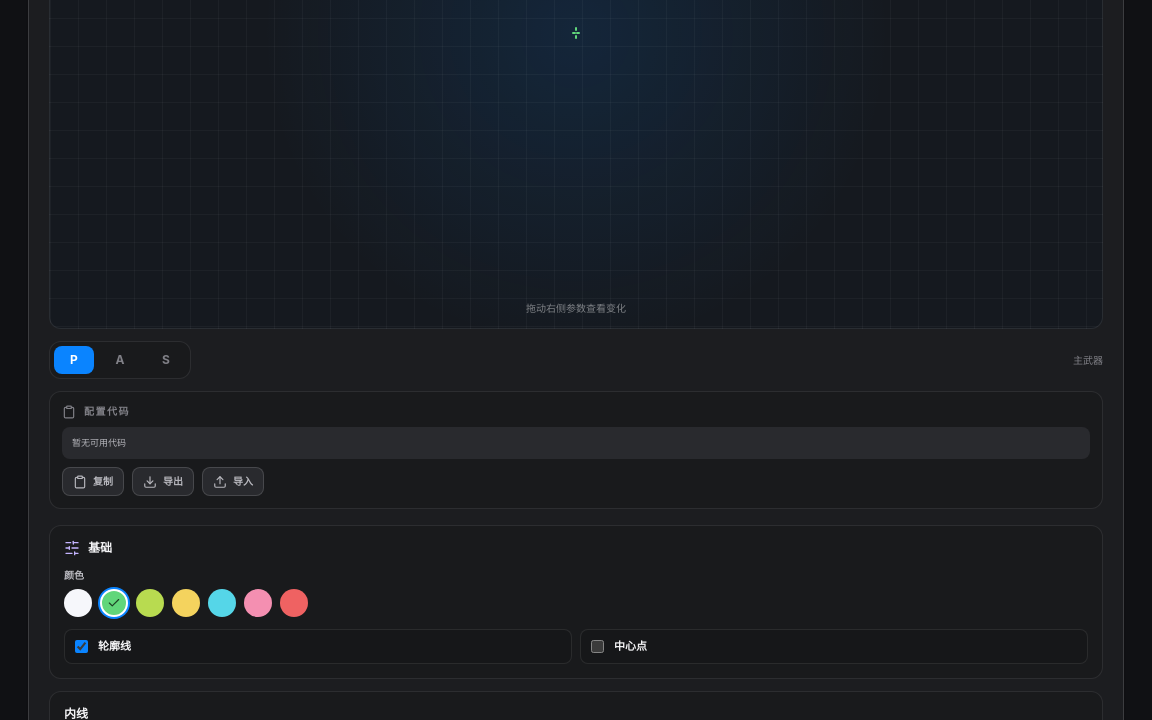
it: ValorantLabPage › keeps P/A/S profiles separate and supports copying the generated code
The width and height of the screenshot is (1152, 720).
(page scrolled)
Step 1. Click the tab "A" → [120, 360], box [100,346,140,374]
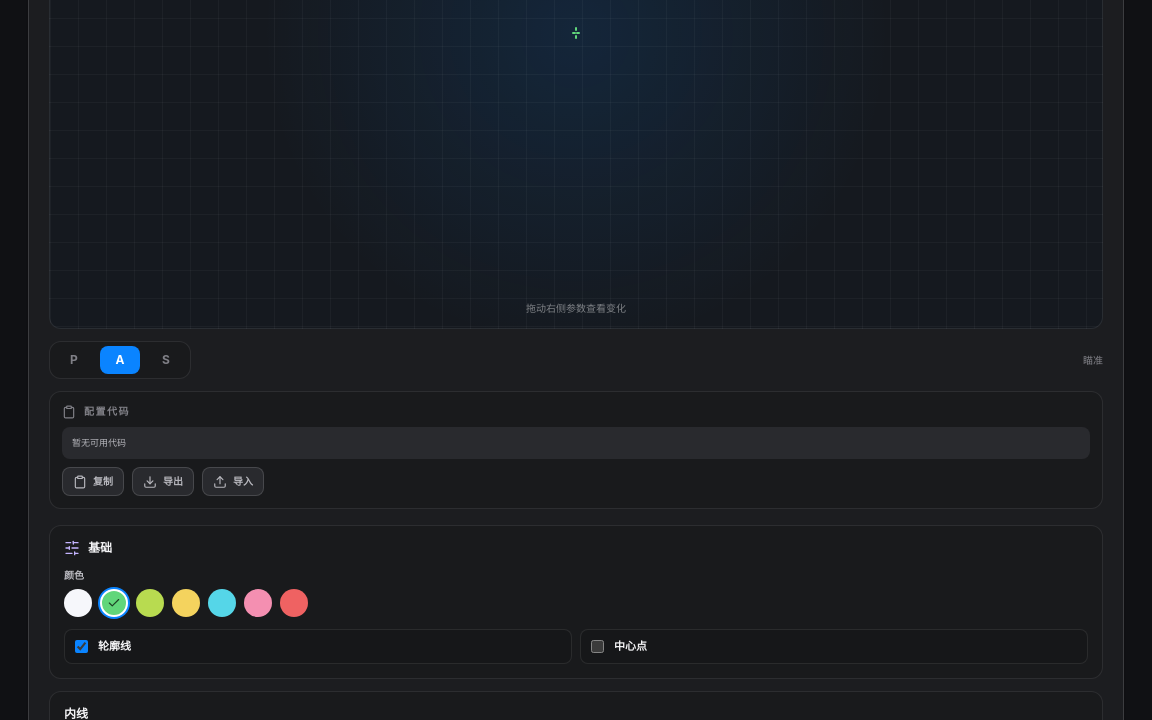
Now the text "瞄准" is shown, box [1083,353,1103,368]
Step 2. Click the button named "红色" → [294, 603], box [280,589,308,617]
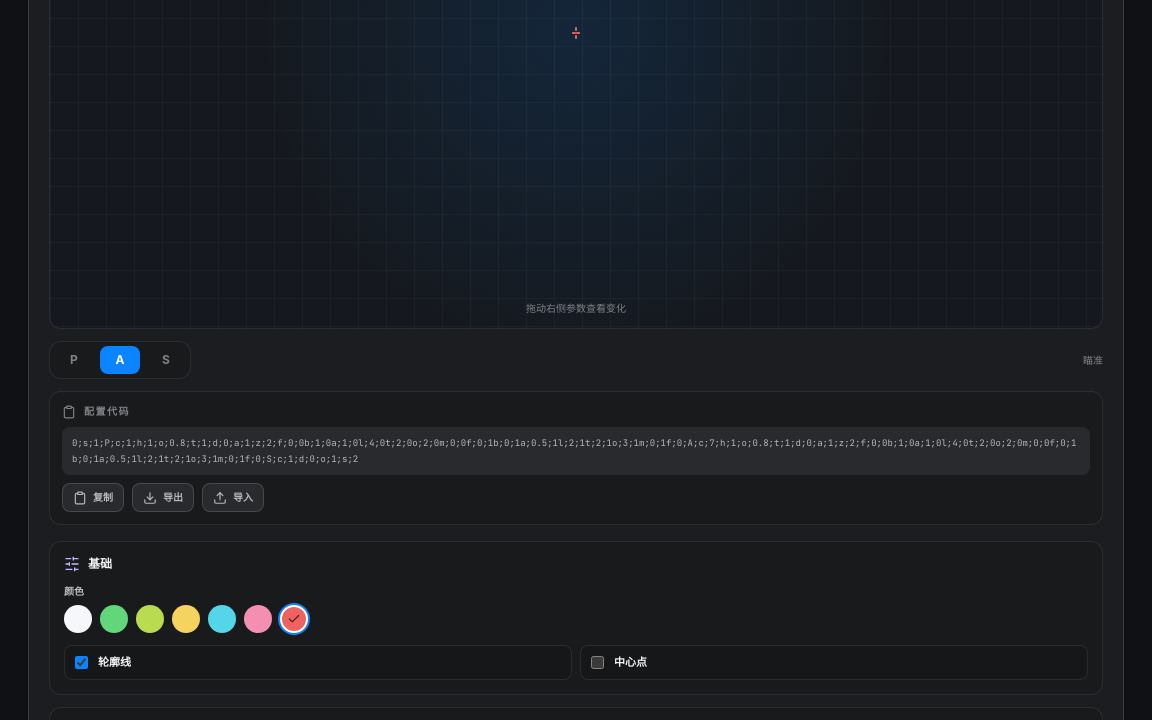
Step 3. Click the button "复制" → [93, 498], box [62,483,124,512]
(page scrolled)
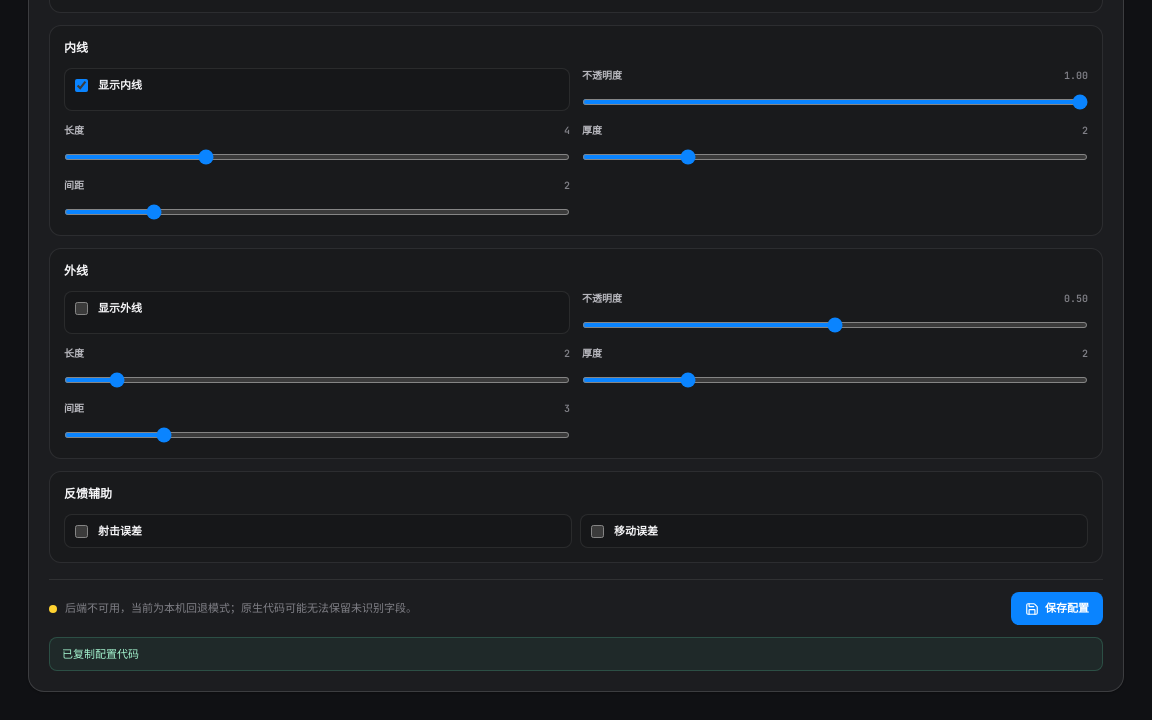
Now the text "已复制配置代码" is shown, box [49,637,1103,671]
